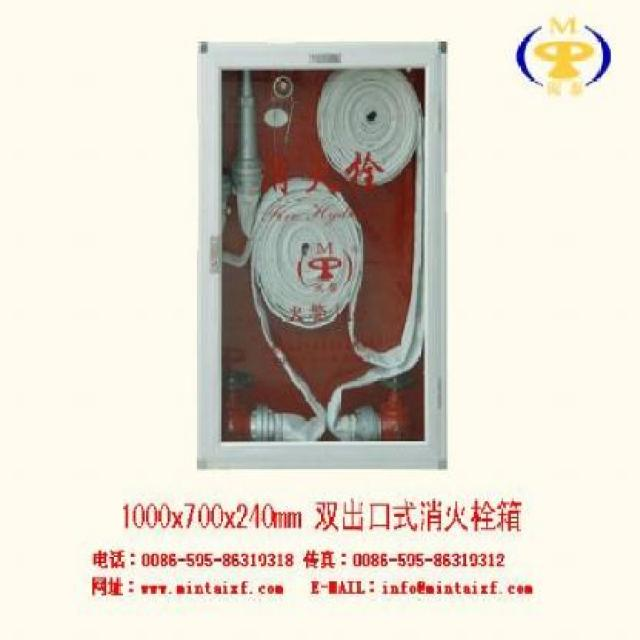firehydrant: (192, 37, 451, 478)
